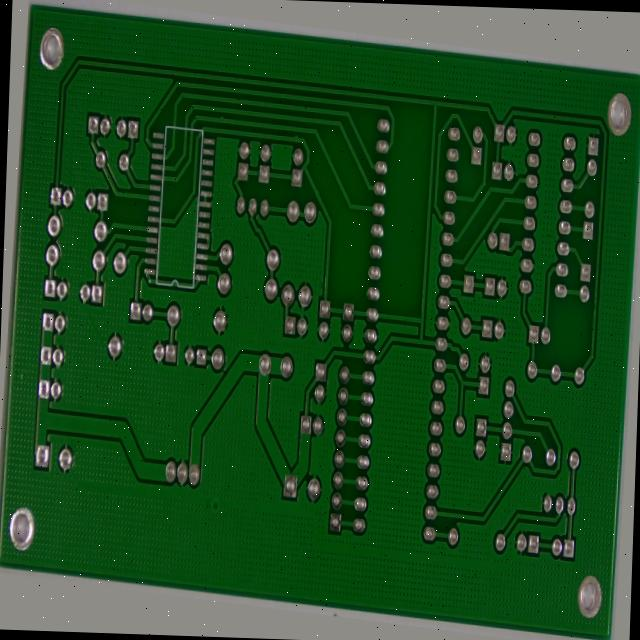spur: (208, 102, 216, 116), (309, 173, 316, 187), (285, 117, 292, 130)
